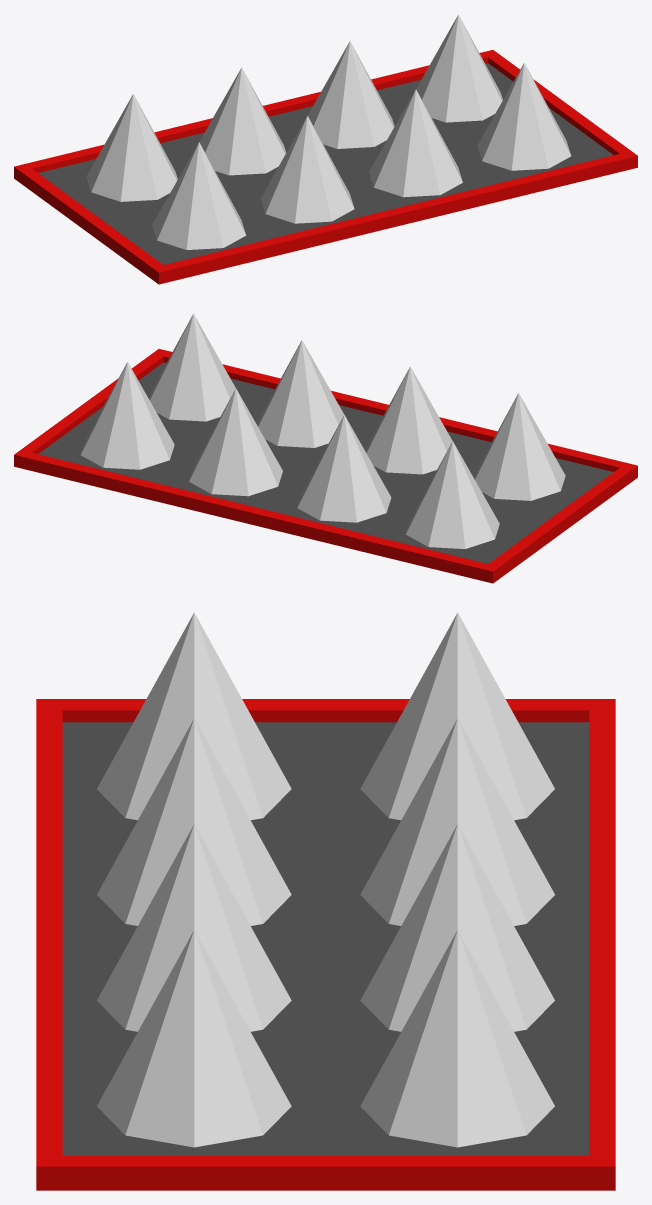
File: Trap.fbx
3 views of the same model, one above another, from view 1: azimuth 30°, elevation 25°; view 2: azimuth 150°, elevation 25°; view 3: azimuth 270°, elevation 25° (orthographic). The views are drawn at different scales.
Parts seen in each view (by area): view 1: Trap; view 2: Trap; view 3: Trap.
Part boxes in pixels (<box>): Trap: <box>14,14,637,284</box>; Trap: <box>14,313,637,583</box>; Trap: <box>36,612,615,1190</box>.
Size of the model in its own units: 420 by 79 by 220.
